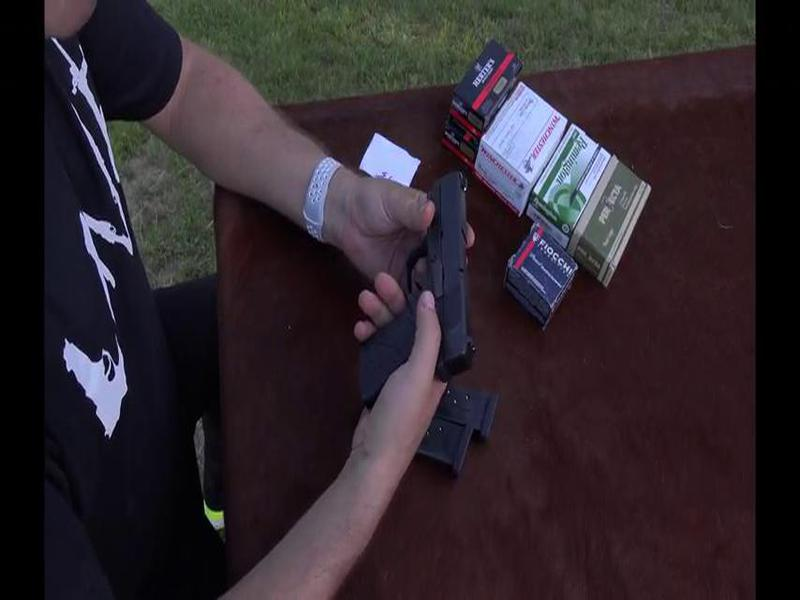Pistola: (348, 164, 492, 421)
